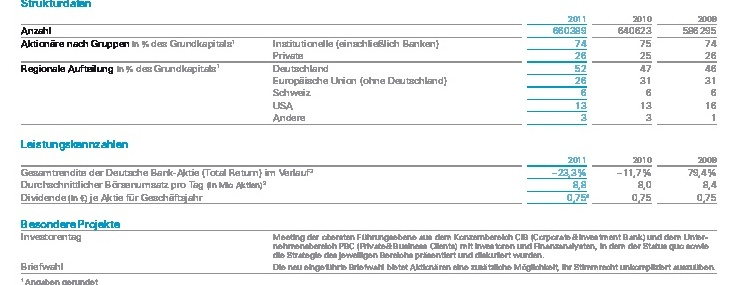table: (0, 0, 738, 285)
